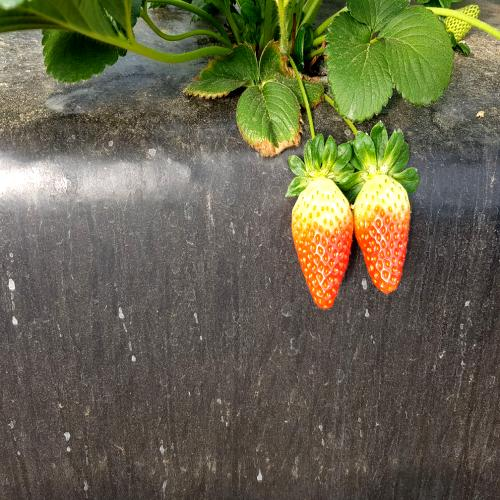partially-ripe: (287, 163, 355, 322), (357, 170, 417, 312)
